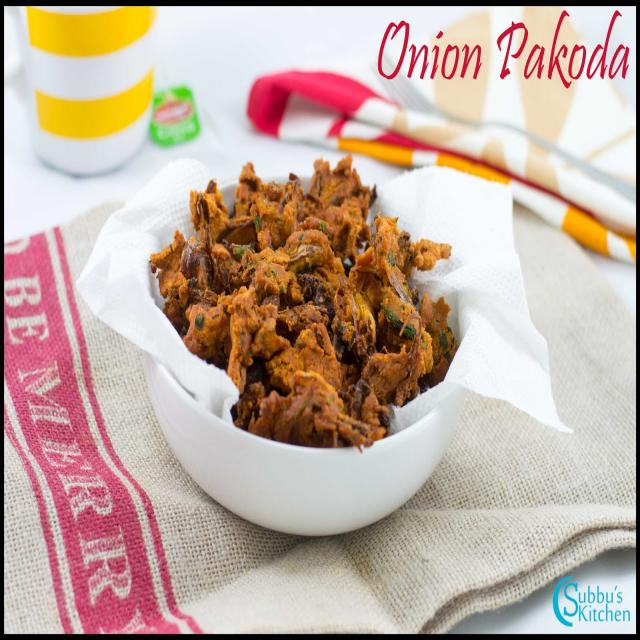BAJI: (147, 151, 463, 442)
